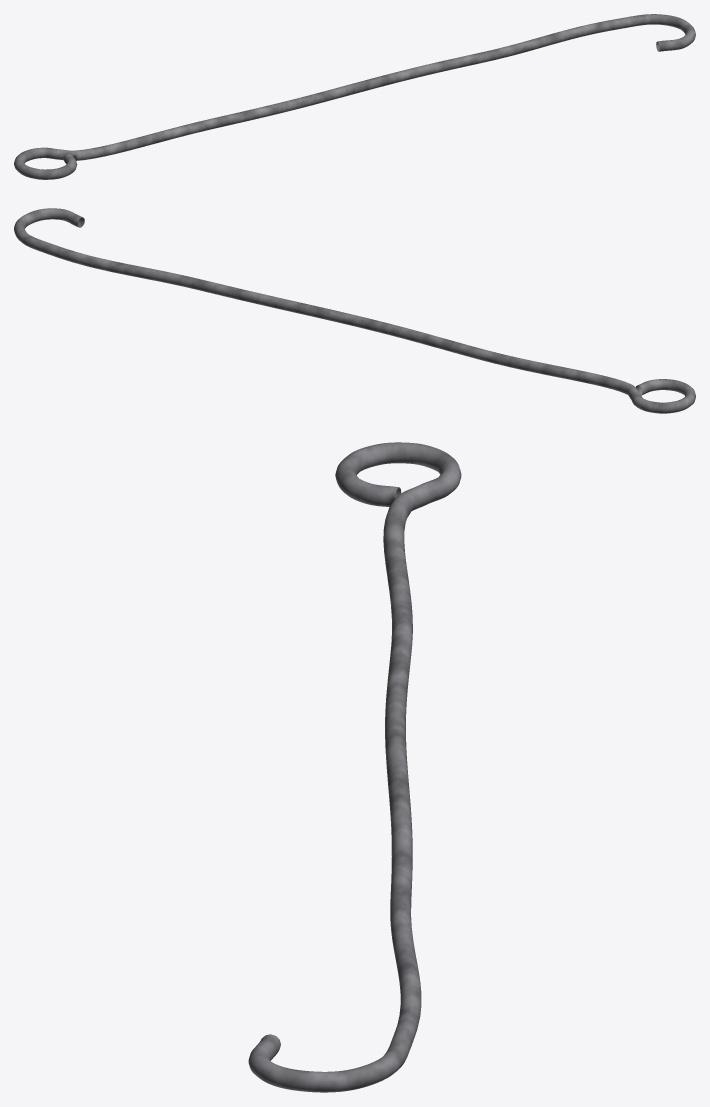
The model's file is hook.glb.
3 renders of one model, top to bottom at view 1: azimuth 30°, elevation 25°; view 2: azimuth 150°, elevation 25°; view 3: azimuth 270°, elevation 25°, orthographic. The views are drawn at different scales.
Parts seen in each view (by area): view 1: Hook; view 2: Hook; view 3: Hook.
Part boxes in pixels (bbox=[...]): Hook: bbox=[14, 14, 695, 179]; Hook: bbox=[14, 208, 695, 413]; Hook: bbox=[248, 442, 461, 1092].
Size of the model in its own units: 0.4903 by 0.008 by 0.0693.
1 material, 1 textured.
